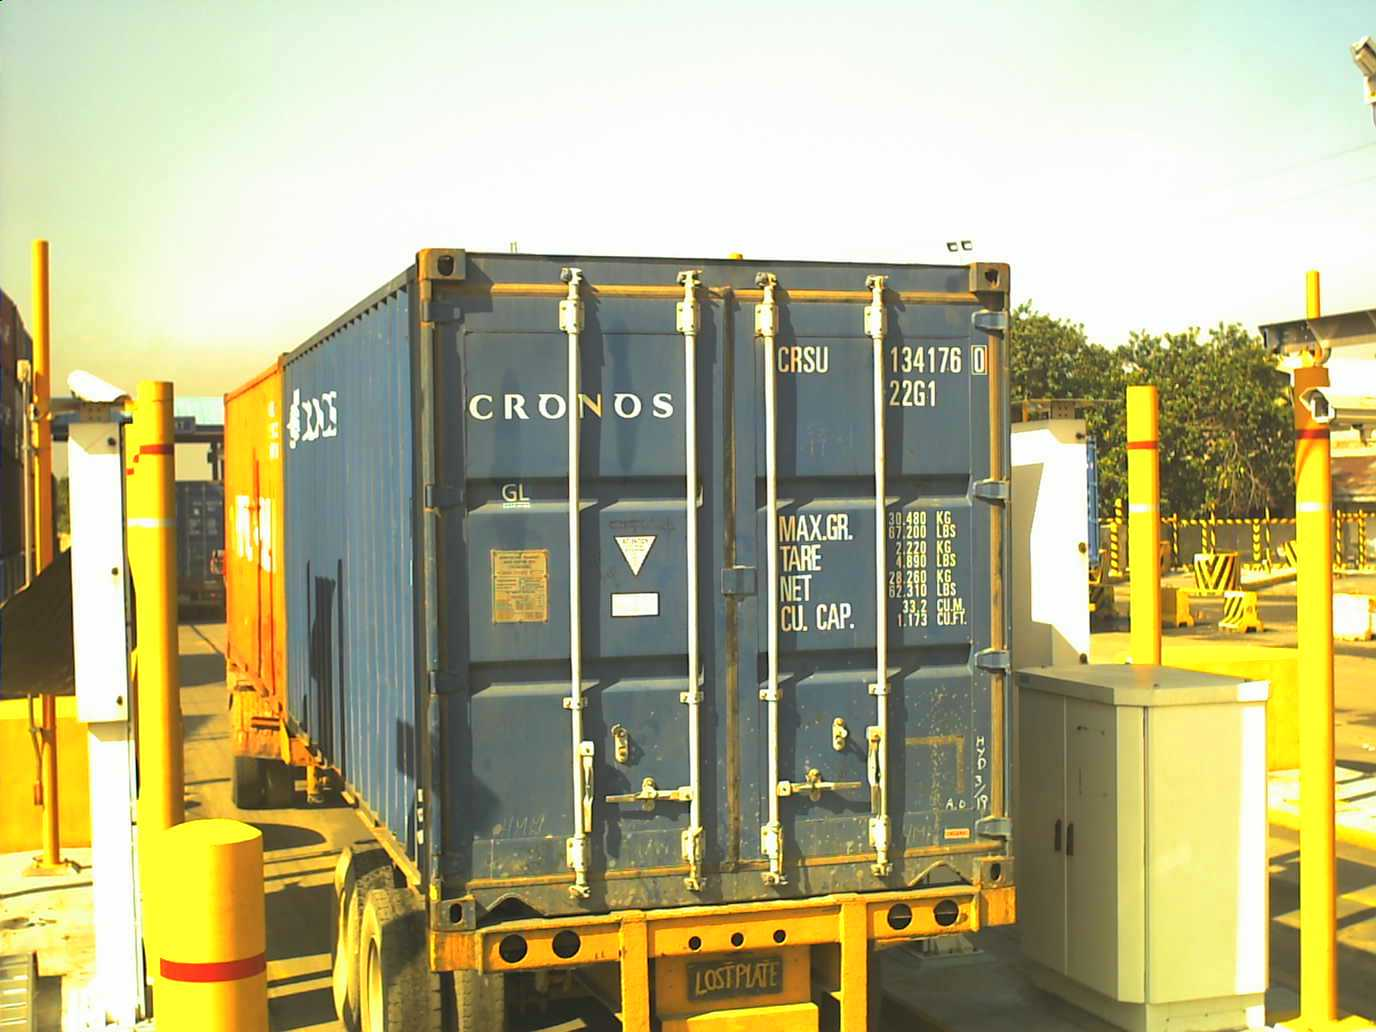container_door: (416, 258, 1015, 934)
